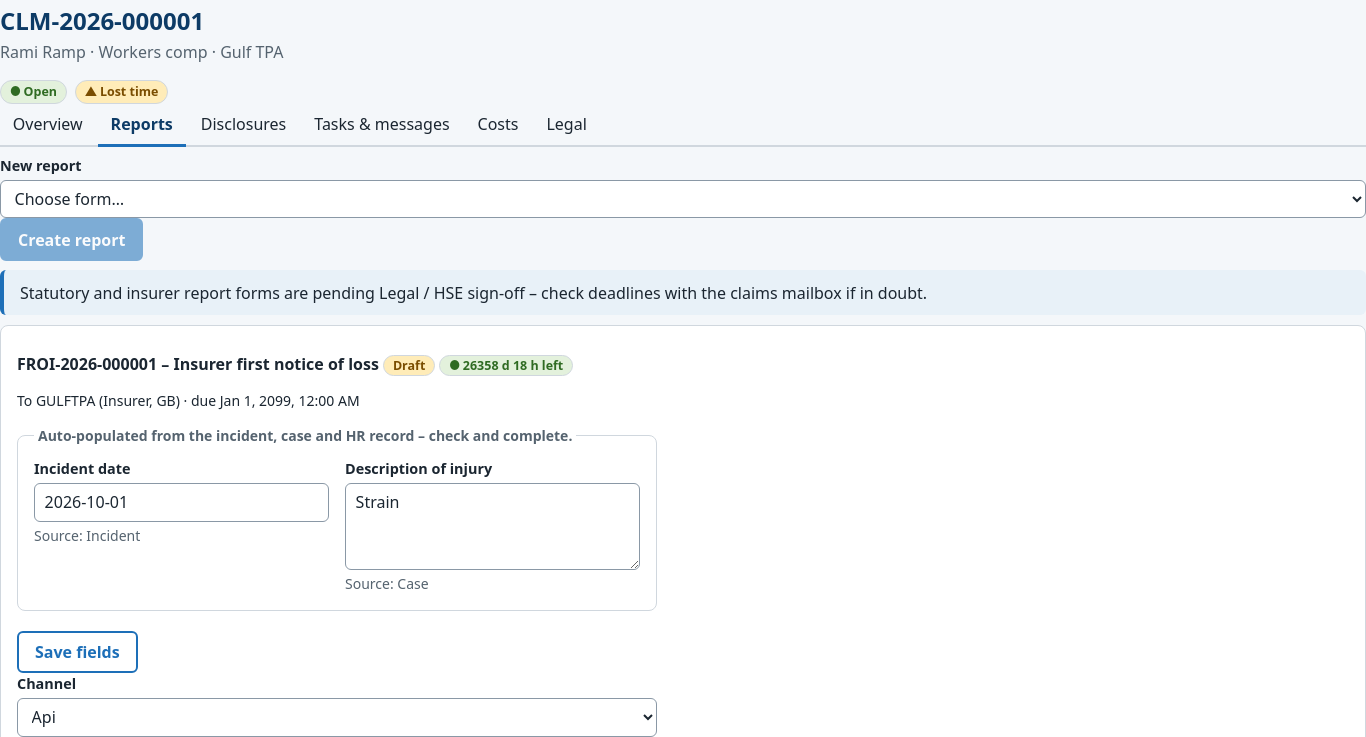
Scenario: ClaimDetailScreen › reports: countdown, edit fields, 422 clinical content on the description, then submit
The width and height of the screenshot is (1366, 737).
Later steps or results of the test are not shown.
Check: the heading "FROI-2026-000001 – Insurer first notice of loss" is shown, box [17, 353, 573, 376]
Check: the text "● 26358 d 18 h left" is shown, box [439, 355, 573, 376]
Replace the text in the text box labelled "Description of injury" with "L4/L5 disc herniation" at [492, 526], box [345, 483, 640, 570]
(page scrolled)
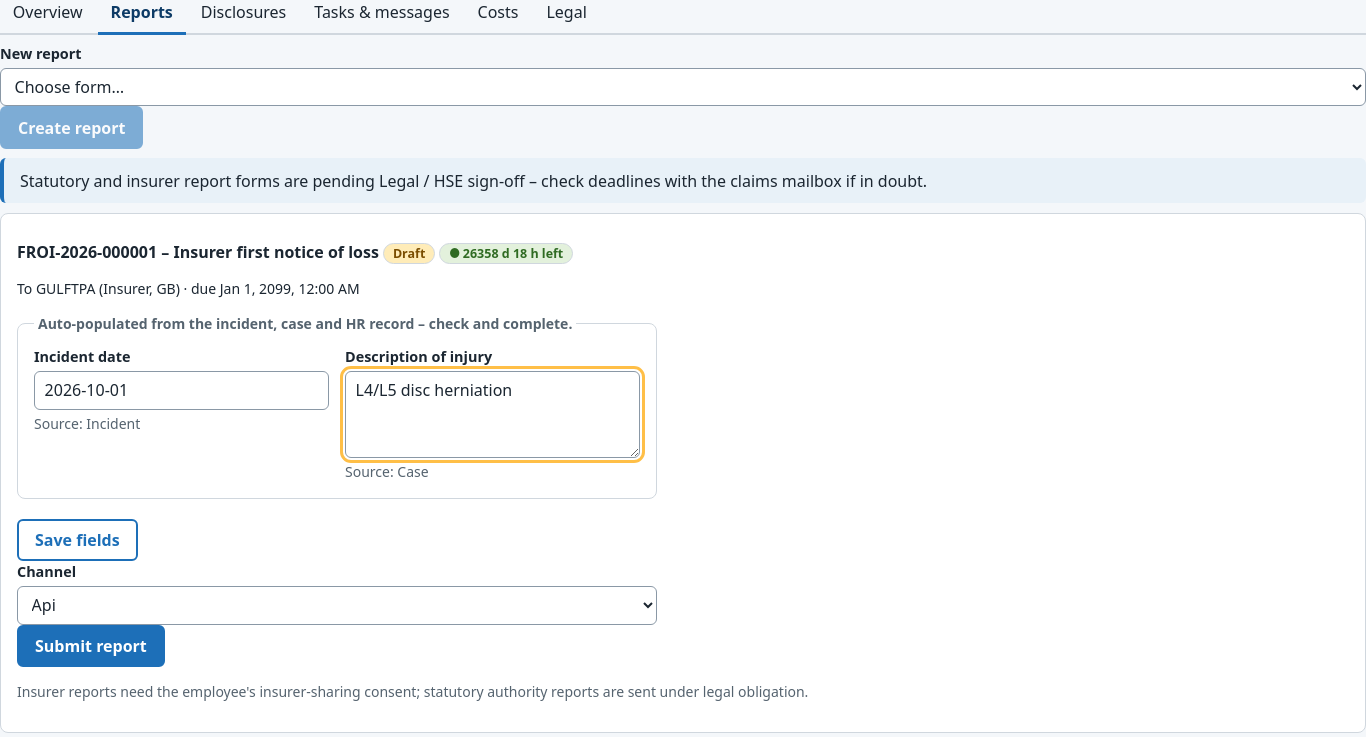
Click the button "Submit report" at [91, 646], box [17, 625, 165, 667]
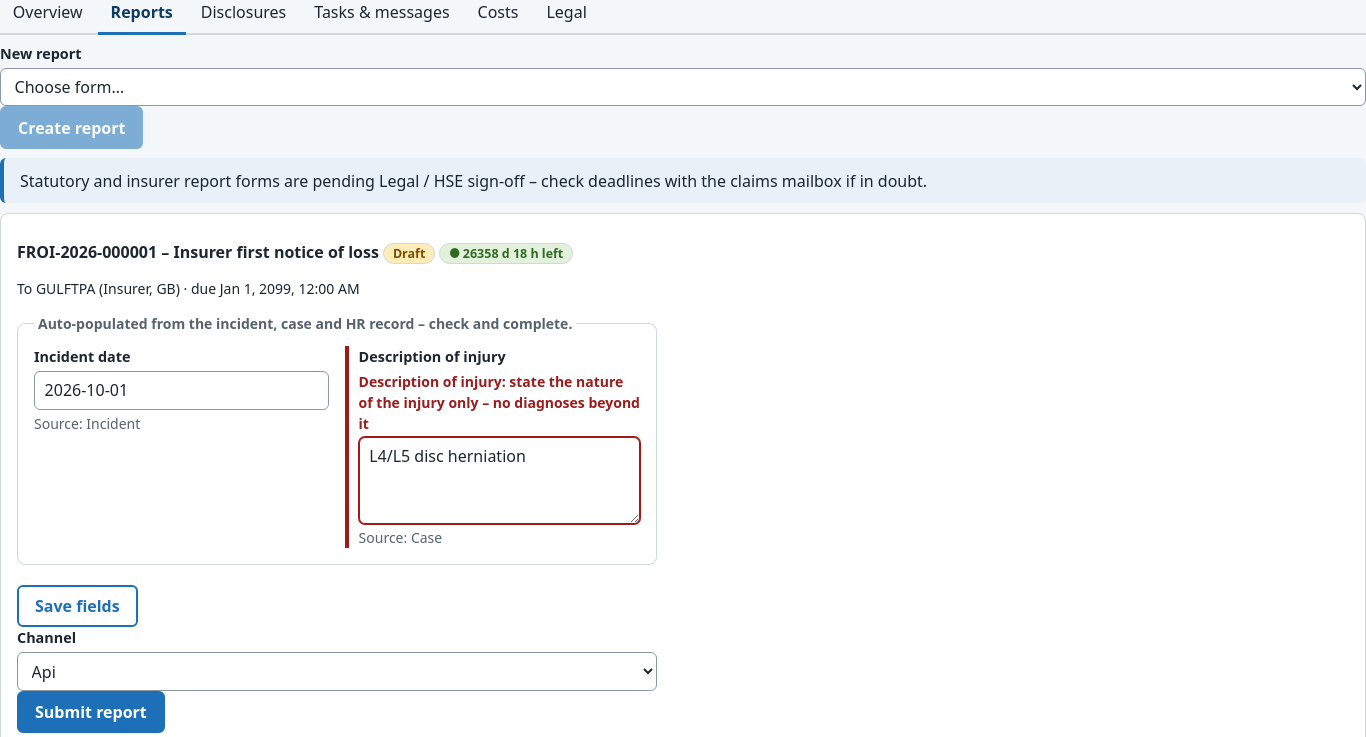
Check: the text "nature of the injury only" is shown, box [359, 372, 640, 433]
